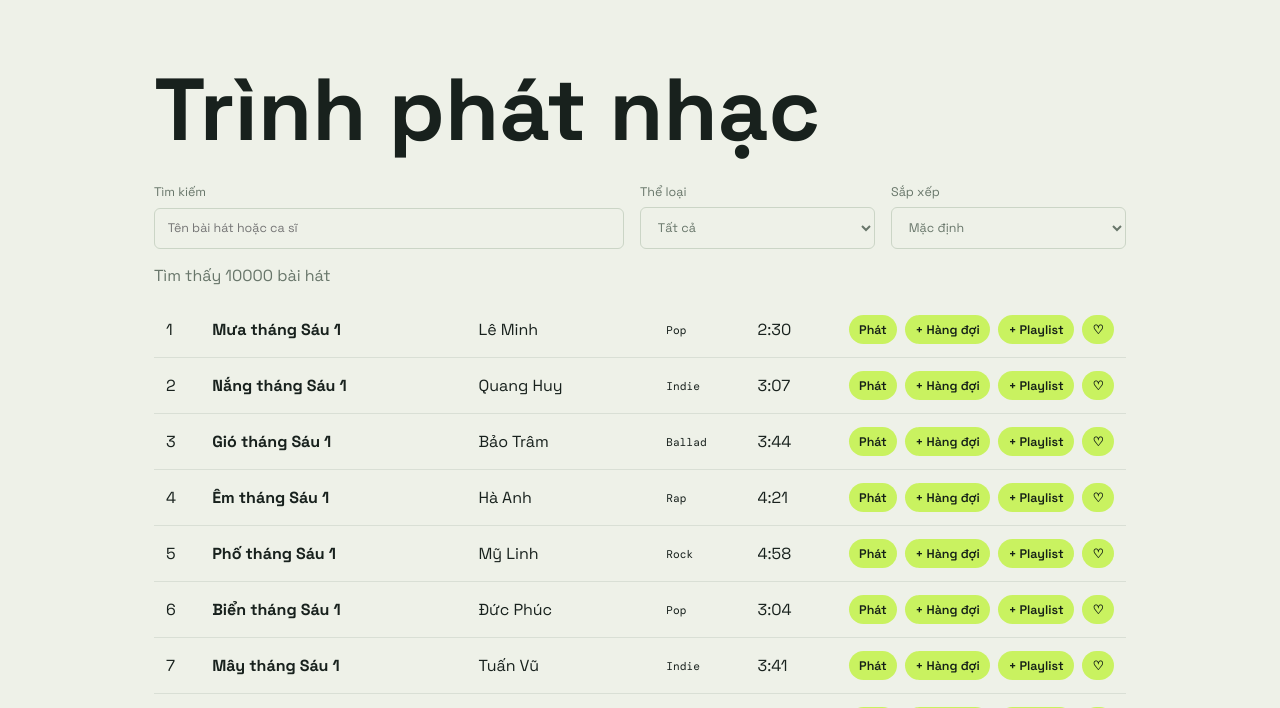
Scenario: LibraryPage › lọc theo thể loại
Select "Rock" in the dropdown labelled "Thể loại" at point(758, 228), box [640,207,875,249]
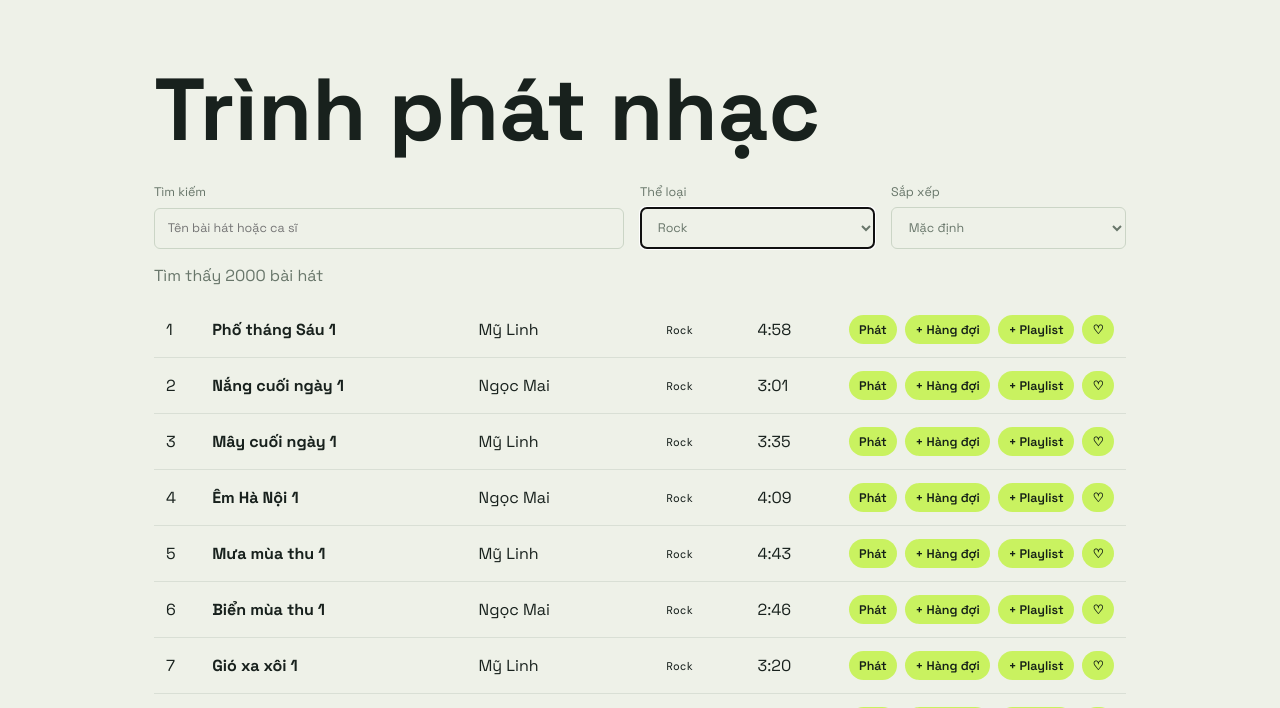
Check: the text "Tìm thấy 2000 bài hát" is shown, box [154,265,323,286]
